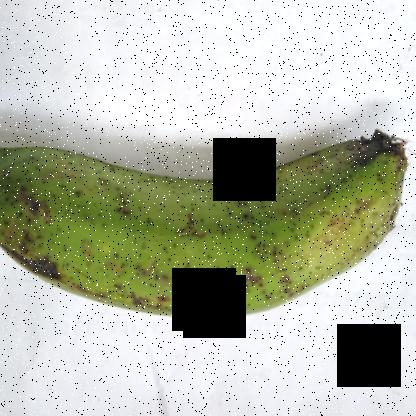unripe: (1, 115, 415, 355)
